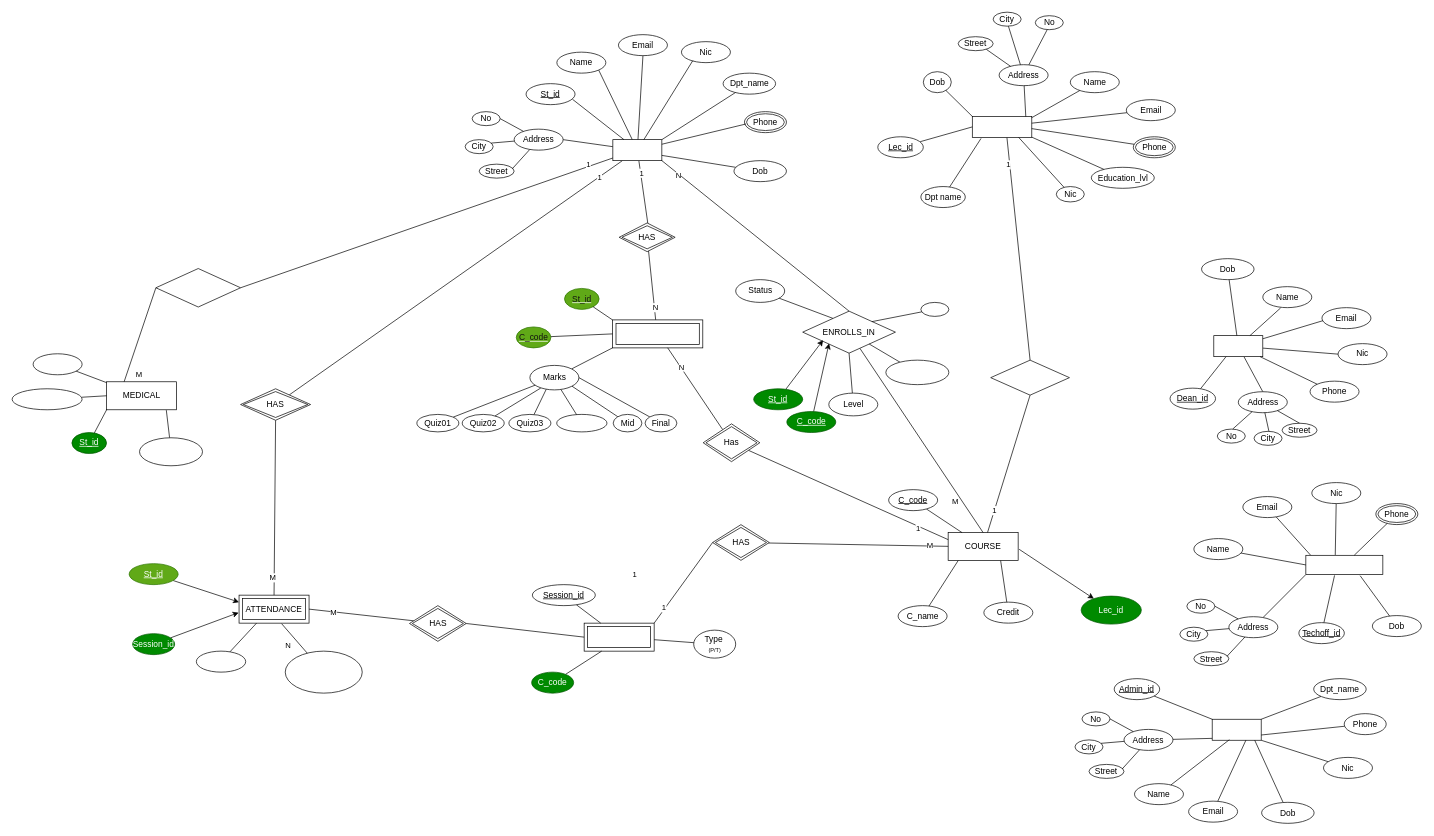
This 1434x836 diagram has some shape labels left out. Here are the shapes that lost their labels. From the top down, the box of each, then its label:
(972, 116, 1032, 137): LECTURER
(612, 139, 662, 161): STUDENT
(155, 268, 241, 307): SUBMITS
(920, 302, 949, 316): Sem
(612, 319, 703, 348): MARK
(1213, 335, 1263, 357): DEAN
(32, 353, 82, 375): Medical_id
(885, 359, 949, 385): Academic_yr
(990, 359, 1069, 395): TEACHES
(11, 388, 82, 410): Date_submitted
(556, 414, 607, 432): Assignment
(139, 437, 203, 466): Status (Approved or not)
(1305, 555, 1383, 575): TECH_OFFICER
(583, 622, 654, 651): SESSION
(196, 650, 246, 672): Week_no
(285, 650, 362, 693): Status Practical?theory/Medical
(1211, 719, 1261, 740): ADMIN
